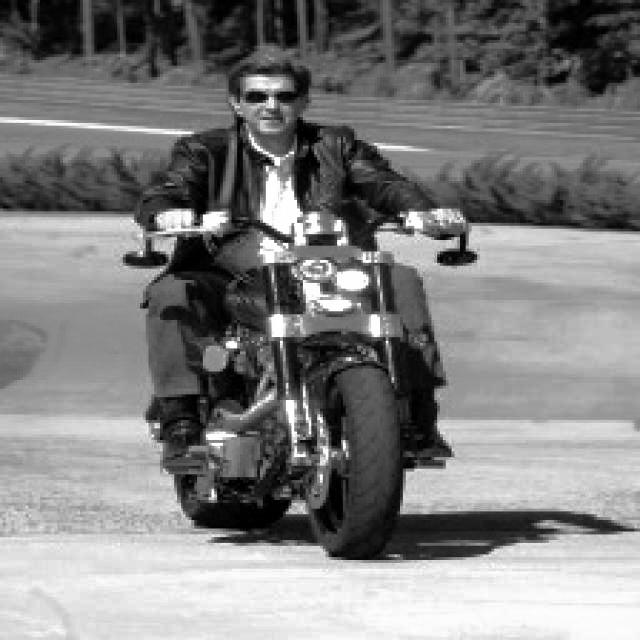Bike: (186, 215, 440, 571)
